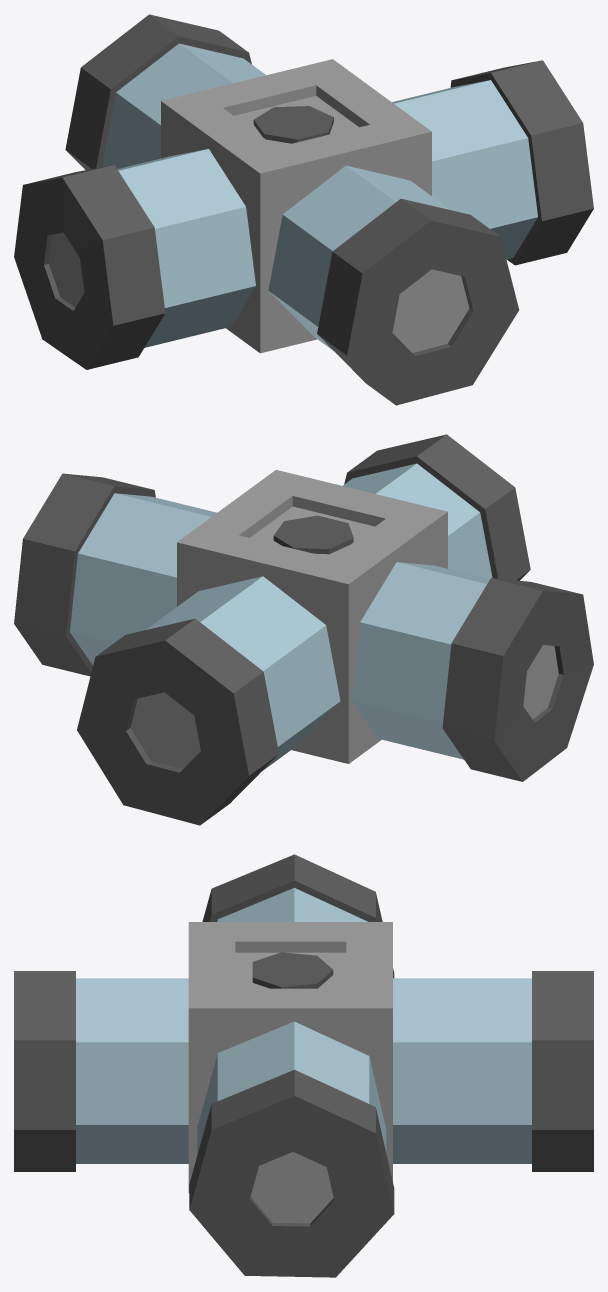
The model's file is fragment de tunnel 03 02.fbx.
The picture shows the model from 3 angles, top to bottom: view 1: azimuth 30°, elevation 25°; view 2: azimuth 150°, elevation 25°; view 3: azimuth 270°, elevation 25°; orthographic projection. The views are drawn at different scales.
Parts seen in each view (by area): view 1: Cylinder, Cylinder.005, Cube, Cylinder.002, Cylinder.001, Cylinder.003, Cylinder.004, Cylinder.006; view 2: Cylinder, Cylinder.004, Cube, Cylinder.002, Cylinder.001, Cylinder.003, Cylinder.005, Cylinder.006; view 3: Cylinder.001, Cylinder.003, Cube, Cylinder.004, Cylinder.005, Cylinder, Cylinder.002, Cylinder.006.
Boxes of the visible parts, x1,y1,x2,y2 form: Cylinder: [117, 80, 537, 347]; Cylinder.005: [317, 198, 519, 405]; Cube: [161, 59, 431, 353]; Cylinder.002: [14, 165, 165, 369]; Cylinder.001: [102, 43, 449, 350]; Cylinder.003: [450, 60, 593, 265]; Cylinder.004: [65, 14, 251, 169]; Cylinder.006: [253, 106, 333, 143]; Cylinder: [70, 493, 489, 759]; Cylinder.004: [77, 618, 278, 825]; Cube: [177, 470, 447, 763]; Cylinder.002: [442, 578, 593, 781]; Cylinder.001: [146, 463, 492, 770]; Cylinder.003: [14, 473, 155, 676]; Cylinder.005: [344, 434, 530, 580]; Cylinder.006: [273, 515, 353, 554]; Cylinder.001: [76, 978, 531, 1163]; Cylinder.003: [189, 1069, 394, 1277]; Cube: [188, 922, 392, 1192]; Cylinder.004: [532, 971, 593, 1171]; Cylinder.005: [14, 971, 75, 1171]; Cylinder: [197, 888, 386, 1154]; Cylinder.002: [202, 854, 394, 978]; Cylinder.006: [252, 952, 333, 988].
Bounding box in the file's own units: 589 × 213 × 598.
